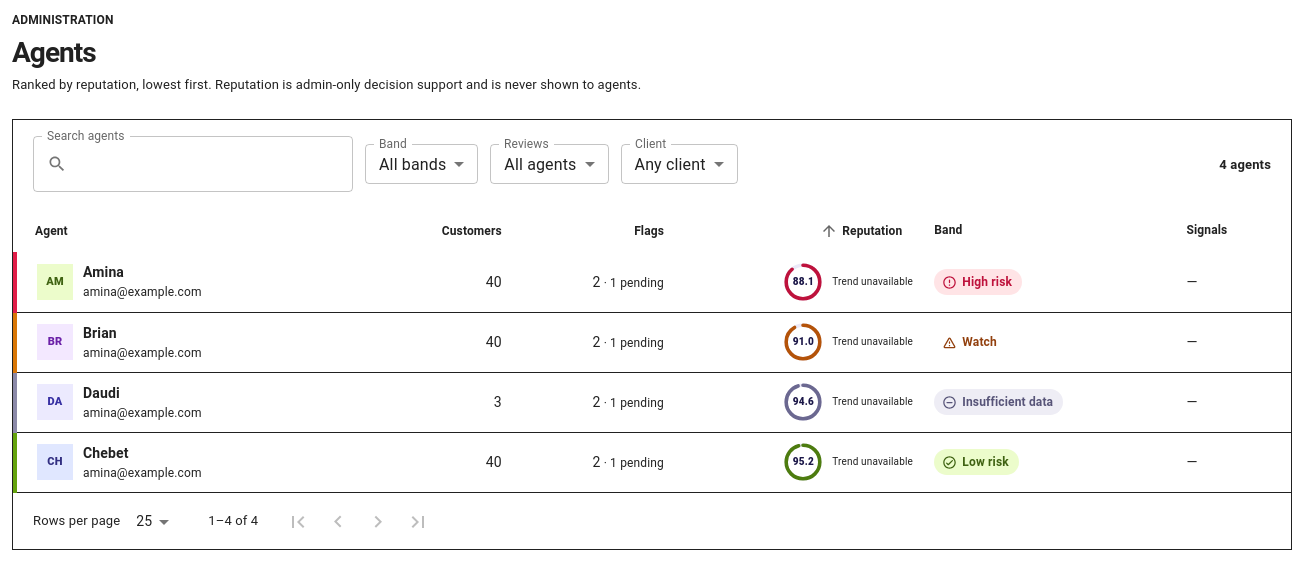
Test: agents ranking › explains an empty search and clears it
expect the text "Amina" is shown: met, box [83, 264, 124, 280]
Type "zzz" into the search field labelled "Search agents" at [214, 164], box [75, 136, 353, 192]
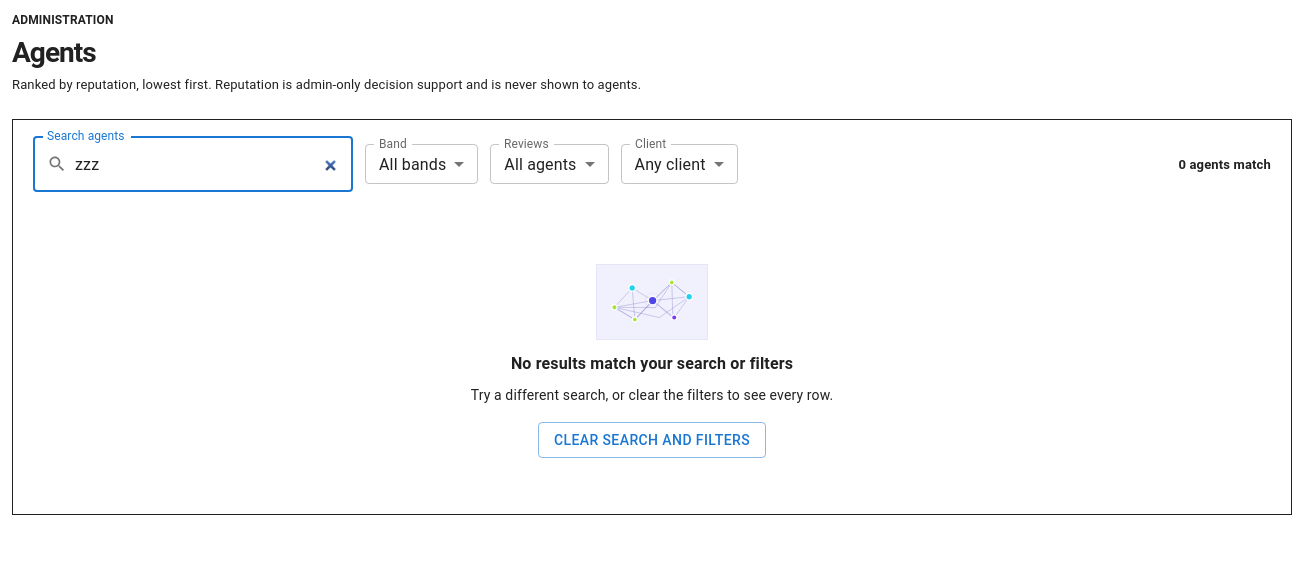
expect the heading "No results match your search or filters" is shown: met, box [511, 352, 793, 376]
expect the picture named "Connected nodes represent the SalesMesh network" is shown: met, box [596, 264, 708, 340]
Click the button "Clear search and filters" at [652, 440], box [538, 422, 766, 458]
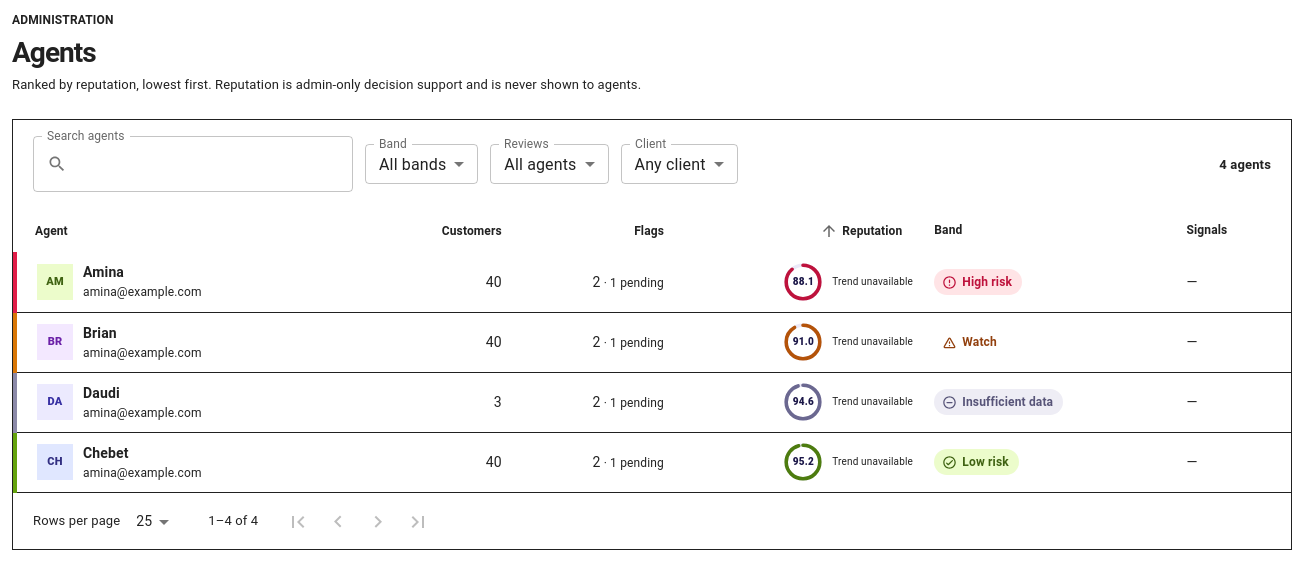
expect the text "Amina" is shown: met, box [83, 264, 124, 280]
expect the search field labelled "Search agents" is empty: met, box [75, 136, 353, 192]
